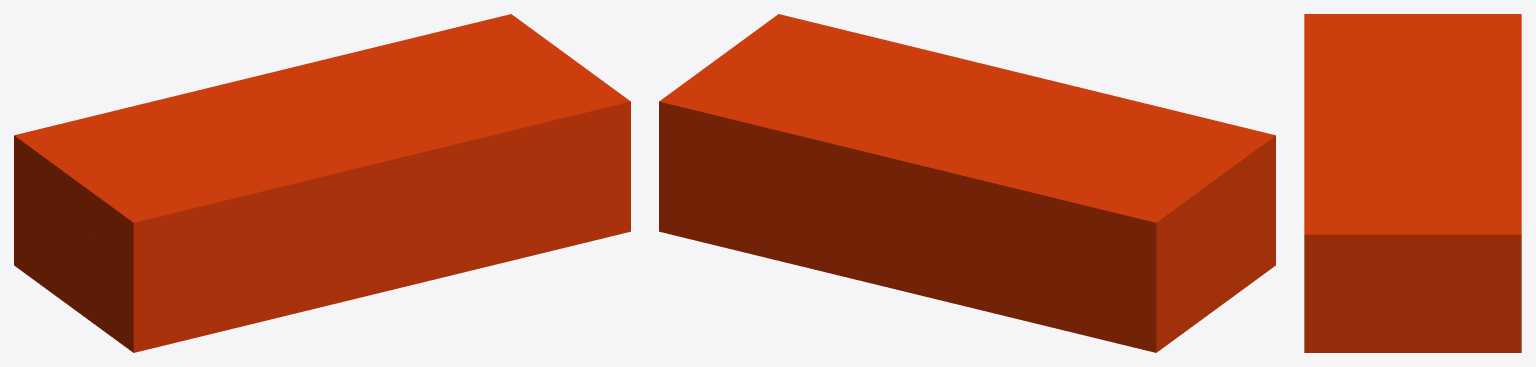
File: brick 1.fbx
The picture shows the model from 3 angles, left to right: view 1: azimuth 30°, elevation 25°; view 2: azimuth 150°, elevation 25°; view 3: azimuth 270°, elevation 25°; orthographic projection. The views are drawn at different scales.
Visible parts, largest first — view 1: Cube.011, Cube.001, Cube.006, Cube.116, Cube.041, Cube.131, Cube.161, Cube.026, Cube.056, Cube.101, Cube.071, Cube.086 (+80 smaller); view 2: Cube.015, Cube.005, Cube.010, Cube.120, Cube.045, Cube.135, Cube.165, Cube.030, Cube.060, Cube.105, Cube.075, Cube.090 (+80 smaller); view 3: Cube.177, Cube.179, Cube, Cube.176, Cube.178, Cube.172, Cube.174, Cube.167, Cube.169, Cube.166, Cube.168, Cube.170 (+58 smaller).
Part boxes in pixels (x1,y1,x2,y2): Cube.011: (109, 195, 174, 265); Cube.001: (109, 292, 174, 352); Cube.006: (109, 249, 174, 309); Cube.116: (400, 124, 465, 195); Cube.041: (193, 175, 257, 245); Cube.131: (441, 114, 506, 185); Cube.161: (524, 94, 589, 164); Cube.026: (151, 185, 216, 255); Cube.056: (234, 165, 299, 235); Cube.101: (359, 134, 423, 205); Cube.071: (276, 155, 340, 225); Cube.086: (317, 144, 382, 215); Cube.015: (1115, 195, 1180, 265); Cube.005: (1115, 292, 1180, 352); Cube.010: (1115, 249, 1180, 309); Cube.120: (824, 124, 889, 195); Cube.045: (1032, 175, 1096, 245); Cube.135: (783, 114, 848, 185); Cube.165: (700, 94, 765, 164); Cube.030: (1073, 185, 1138, 255); Cube.060: (990, 165, 1055, 235); Cube.105: (866, 134, 930, 205); Cube.075: (949, 155, 1013, 225); Cube.090: (907, 144, 972, 215); Cube.177: (1347, 216, 1391, 273); Cube.179: (1434, 216, 1478, 273); Cube: (1478, 216, 1521, 273); Cube.176: (1304, 216, 1347, 273); Cube.178: (1391, 216, 1434, 273); Cube.172: (1347, 274, 1391, 313); Cube.174: (1434, 274, 1478, 313); Cube.167: (1347, 313, 1391, 352); Cube.169: (1434, 313, 1478, 352); Cube.166: (1304, 313, 1347, 352); Cube.168: (1391, 313, 1434, 352); Cube.170: (1478, 313, 1521, 352).
Bounding box in the file's own units: 546 × 137 × 228.
